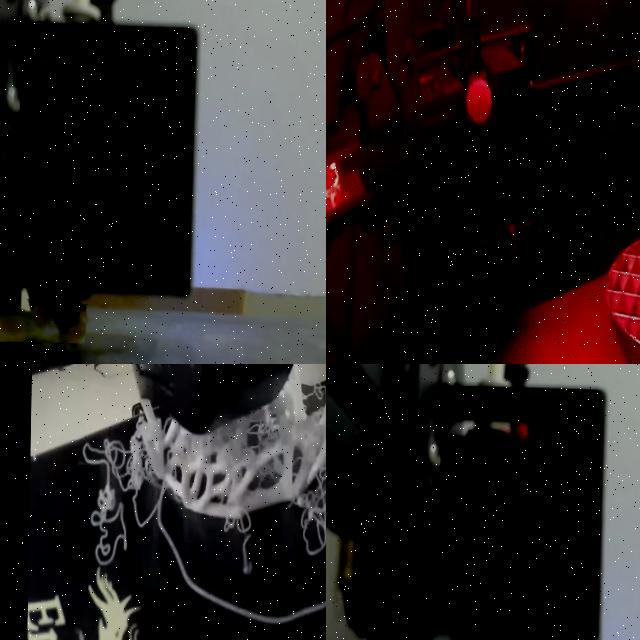spaghetti: (66, 444, 179, 570), (0, 297, 85, 343)
